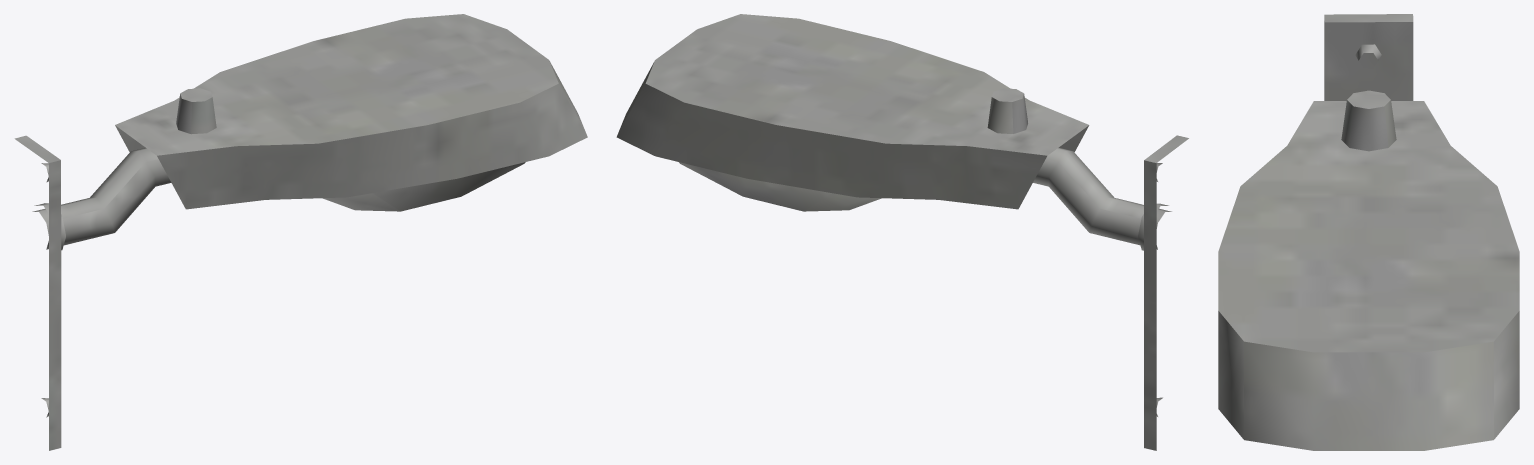
Rendered from lampfixture01a.glb.
3 renders of one model, left to right at view 1: azimuth 30°, elevation 25°; view 2: azimuth 150°, elevation 25°; view 3: azimuth 270°, elevation 25°, orthographic. The views are drawn at different scales.
Visible parts, largest first — view 1: 0_lamppost03a; view 2: 0_lamppost03a; view 3: 0_lamppost03a.
Boxes of the visible parts, x1,y1,x2,y2 form: 0_lamppost03a: (14,14,587,450); 0_lamppost03a: (616,14,1188,450); 0_lamppost03a: (1218,14,1519,450).
Size of the model in its own units: 0.92 by 0.5063 by 0.3471.
Materials: 1 (1 with a texture image).
